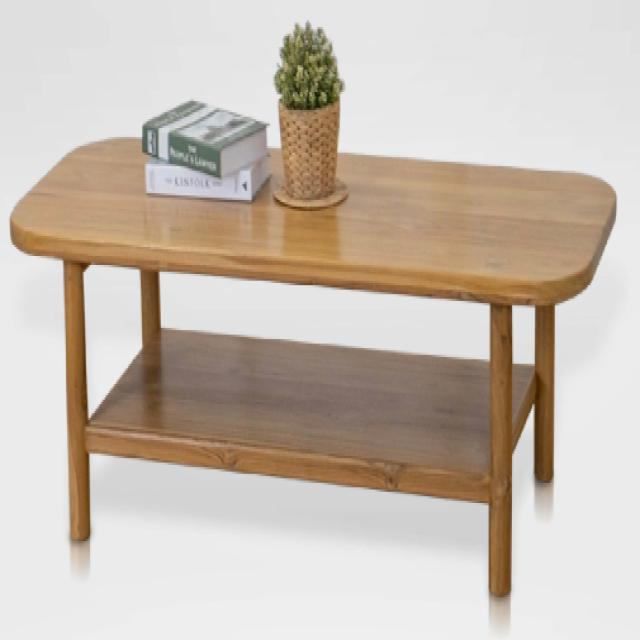table: (6, 99, 630, 640)
